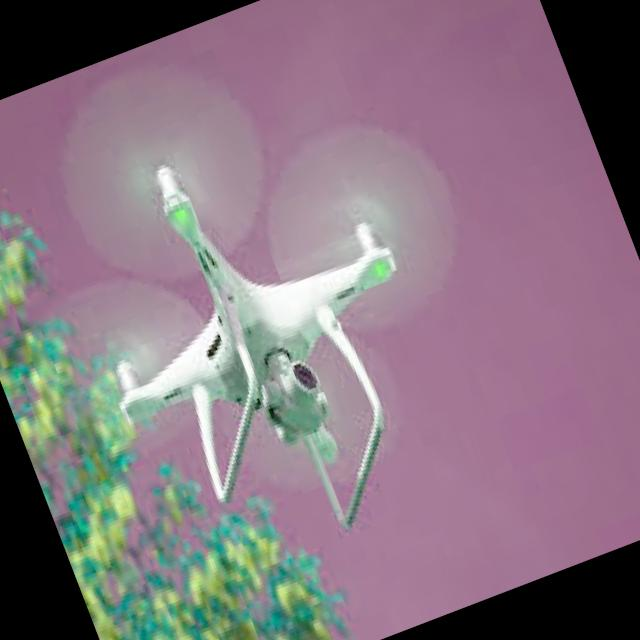drone: (0, 0, 548, 613)
